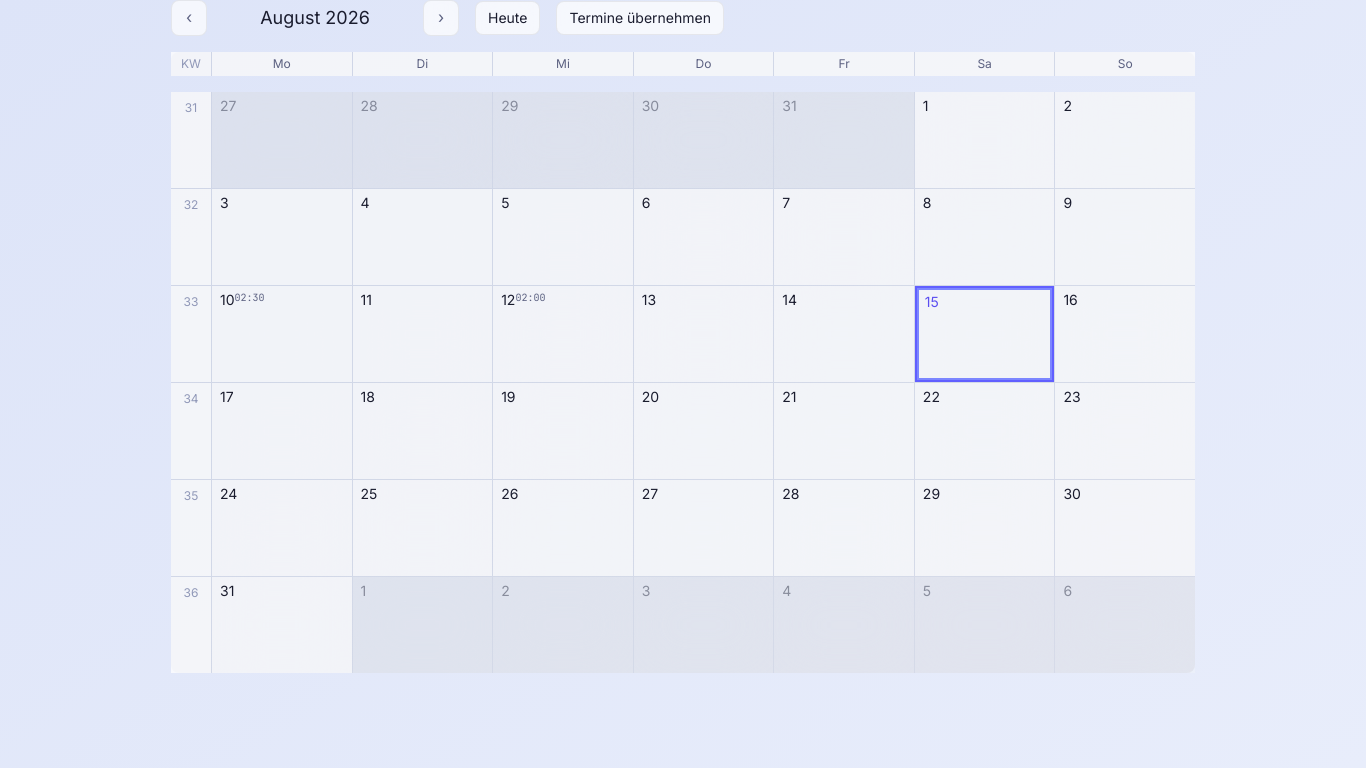
CalendarView — day selection › a click on a day opens the drawer with exactly that day's entries
Click the cell "10 02:30" at (282,334), box [212,286,352,382]
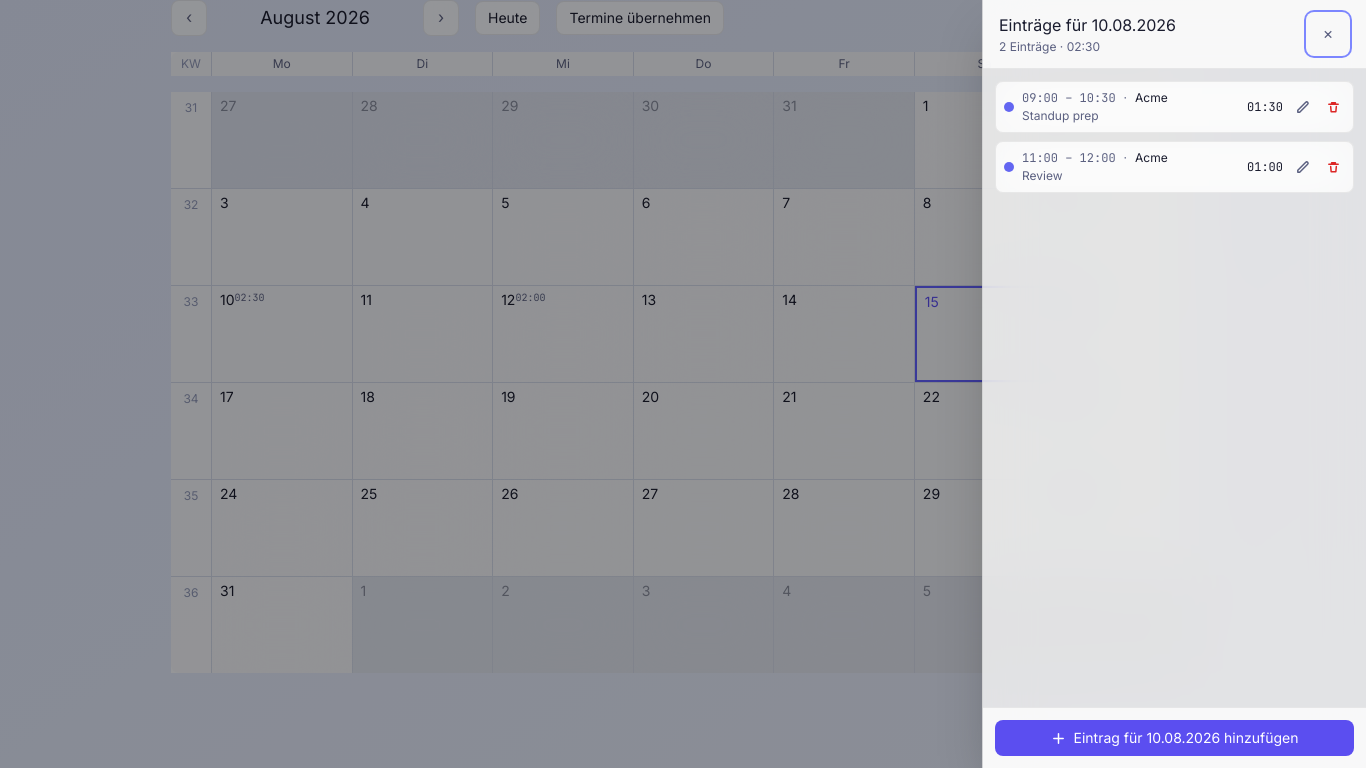
Expected: the text "2 Einträge · 02:30" is shown, [999,39,1100,54]
Expected: the text "Standup prep" is shown, [1022,108,1099,123]
Expected: the text "Review" is shown, [1022,168,1063,183]
